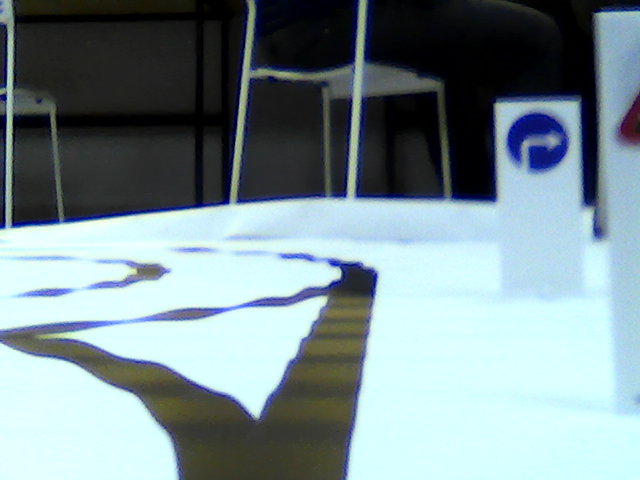Right: (508, 106, 568, 174)
